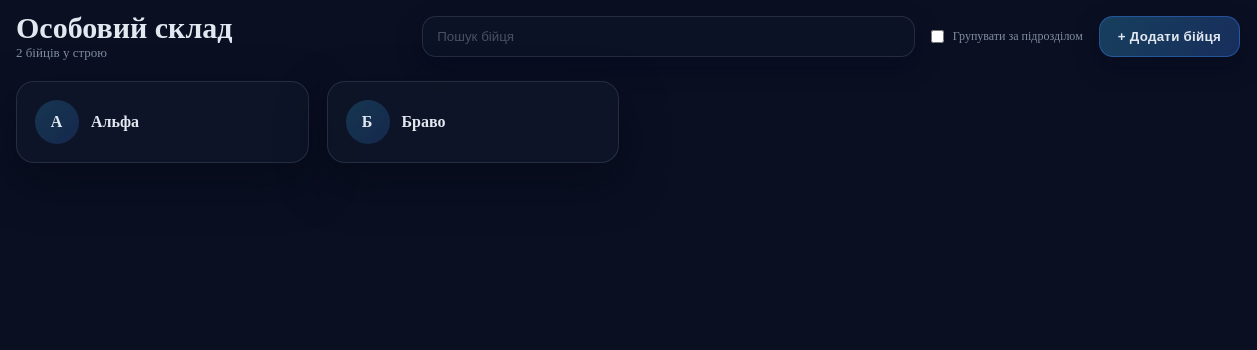
Fighters page › groups fighters by unit when toggle enabled
Expected: the text "1 ОМБр" is not shown
Click the checkbox labelled "Групувати за підрозділом" at (937, 36), box x1=931 y1=30 x2=944 y2=42
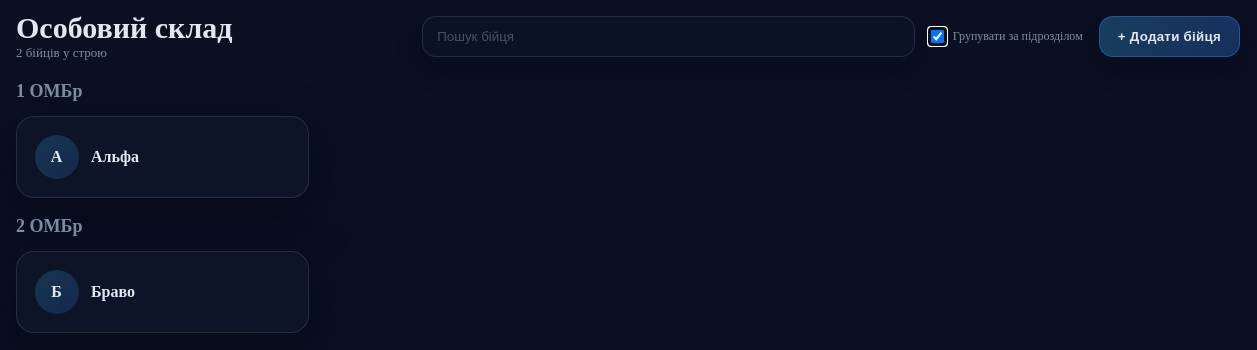
Result: the heading "1 ОМБр" is shown at x1=16 y1=81 x2=82 y2=101
Result: the heading "2 ОМБр" is shown at x1=16 y1=216 x2=82 y2=236
